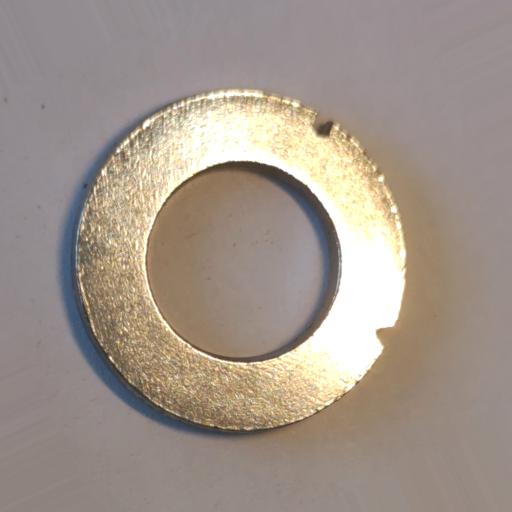burr: (310, 110, 334, 138), (375, 324, 396, 350)
